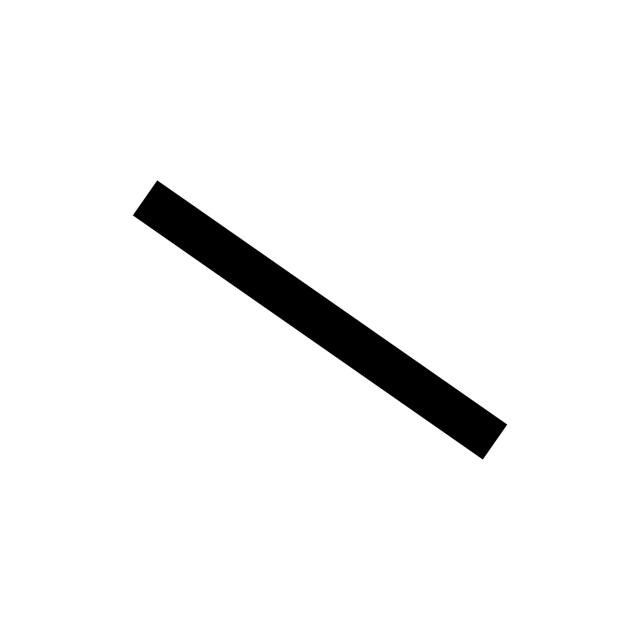line: (132, 180, 507, 460)
